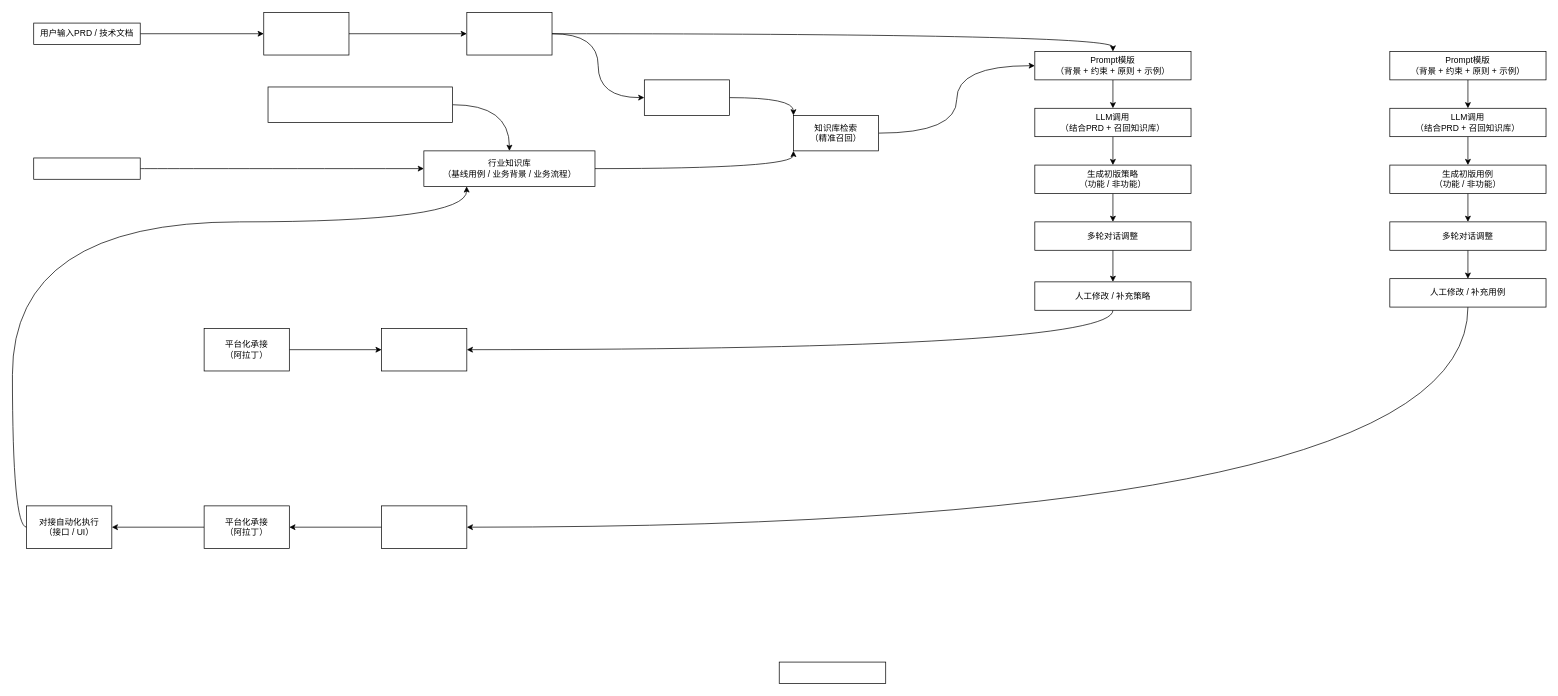
Some shapes in this 1558 by 696 pixel diagram are drawn without their labels. Each missing label, with the centre of its shape:
"PRD补全Agent （补全缺失信息）" goes at [306,33].
"PRD解析器 （结构化提取）" goes at [509,33].
"关键字 / 行业标签" goes at [86,168].
"回写知识库" goes at [832,672].
"用例存档 （结构化存储）" goes at [424,526].
"知识库向量化切片" goes at [687,97].
"知识库构建agent （业务术语 / 功能模块与业务流程 / 业务规则）" goes at [360,104].
"策略存档 （结构化存储）" goes at [424,349].
